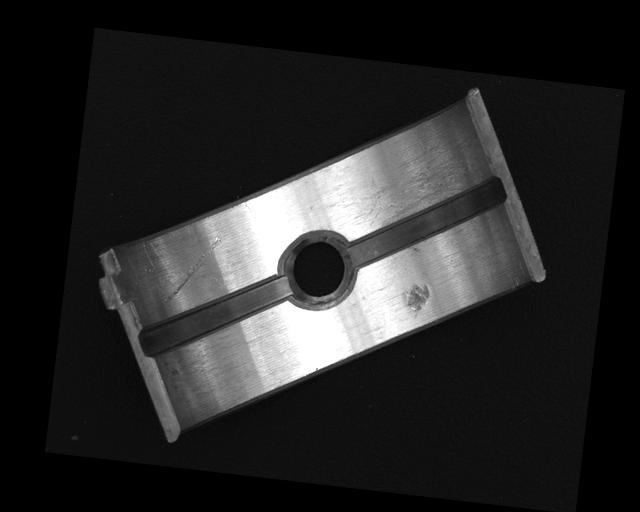bruise: (402, 281, 431, 321)
gap: (345, 161, 508, 284), (138, 260, 293, 373)
hole: (280, 228, 358, 313)
nick: (164, 231, 223, 308)
scratch: (353, 127, 476, 242)
